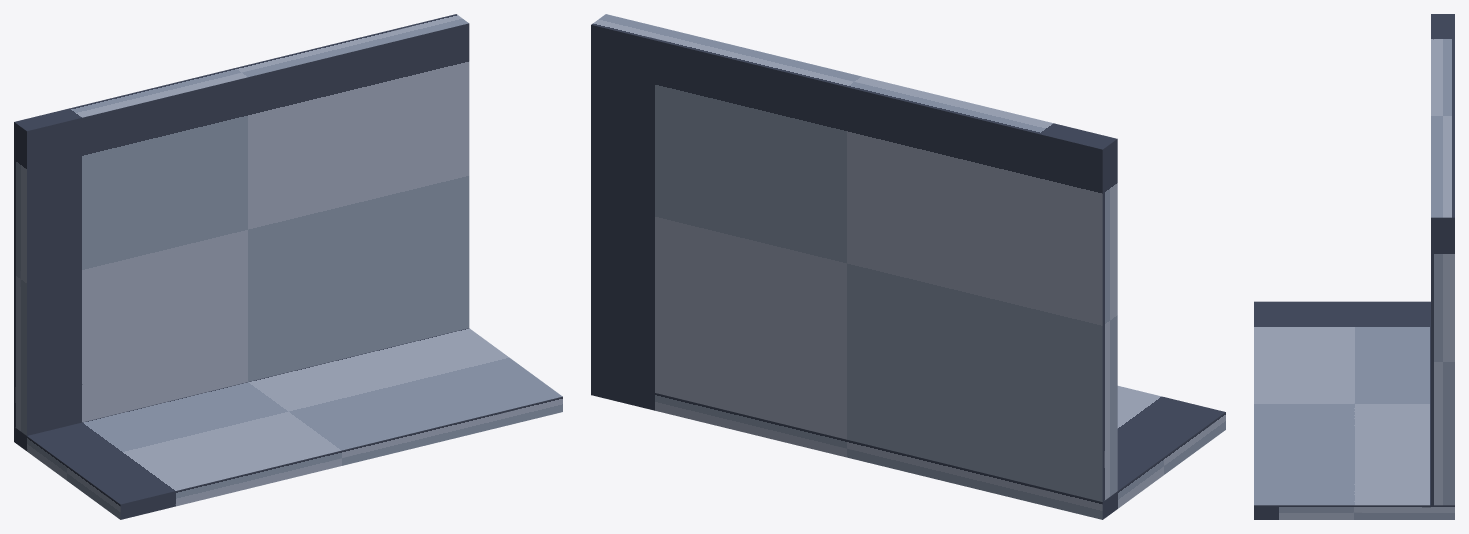
The model's file is background.glb.
The picture shows the model from 3 angles, left to right: view 1: azimuth 30°, elevation 25°; view 2: azimuth 150°, elevation 25°; view 3: azimuth 270°, elevation 25°; orthographic projection. The views are drawn at different scales.
Visible parts, largest first — view 1: background; view 2: background; view 3: background.
Boxes of the visible parts, left/top/right/bottom form: background: left=14, top=14, right=562, bottom=519; background: left=591, top=14, right=1225, bottom=519; background: left=1254, top=14, right=1454, bottom=519.
Bounding box in the file's own units: 6 × 4.15 × 2.5.
Materials: 1 (1 with a texture image).
